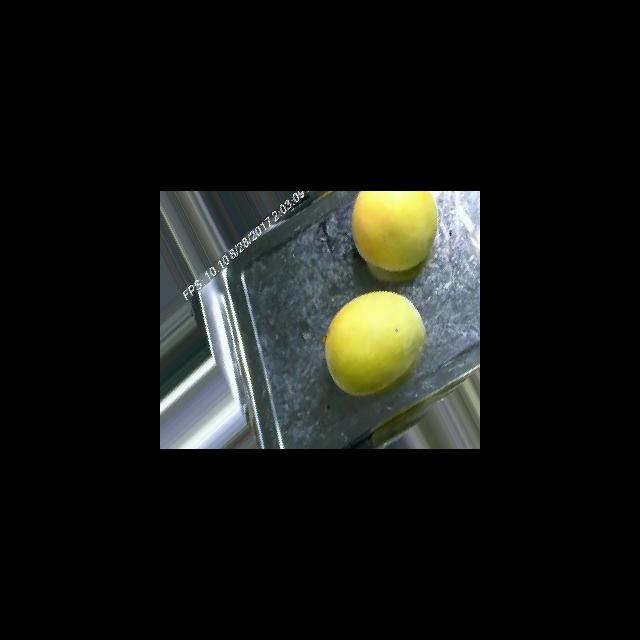mango: (323, 290, 425, 396), (350, 191, 438, 272)
